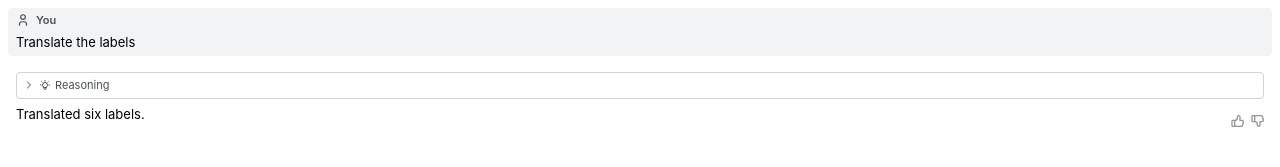
ChatThread — reasoning › keeps a finished turn’s reasoning, collapsed until asked for
Expected: the text "Translated six labels." is shown, [16,106,145,122]
Expected: the text "The drawing has six text elements." is not shown
Click the button "Reasoning".
click(82, 85)  # box [16,72,1264,98]
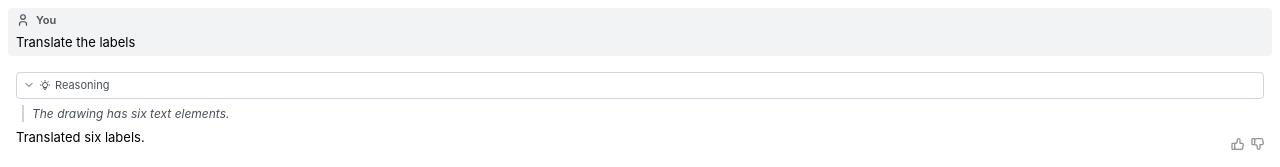
Expected: the text "The drawing has six text elements." is shown, [32,106,230,120]
